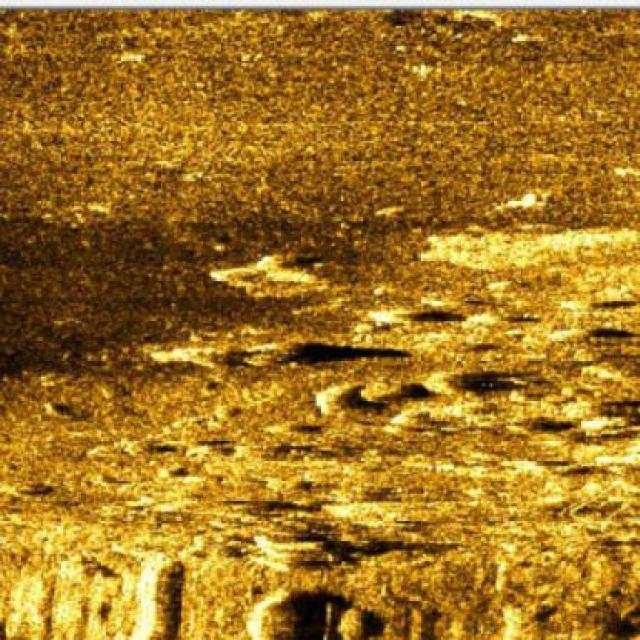bedrock group: (0, 234, 637, 638)
